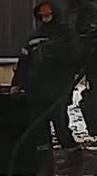gloves: (10, 83, 23, 96)
helmet: (37, 5, 55, 18)
vest: (23, 27, 71, 100)
